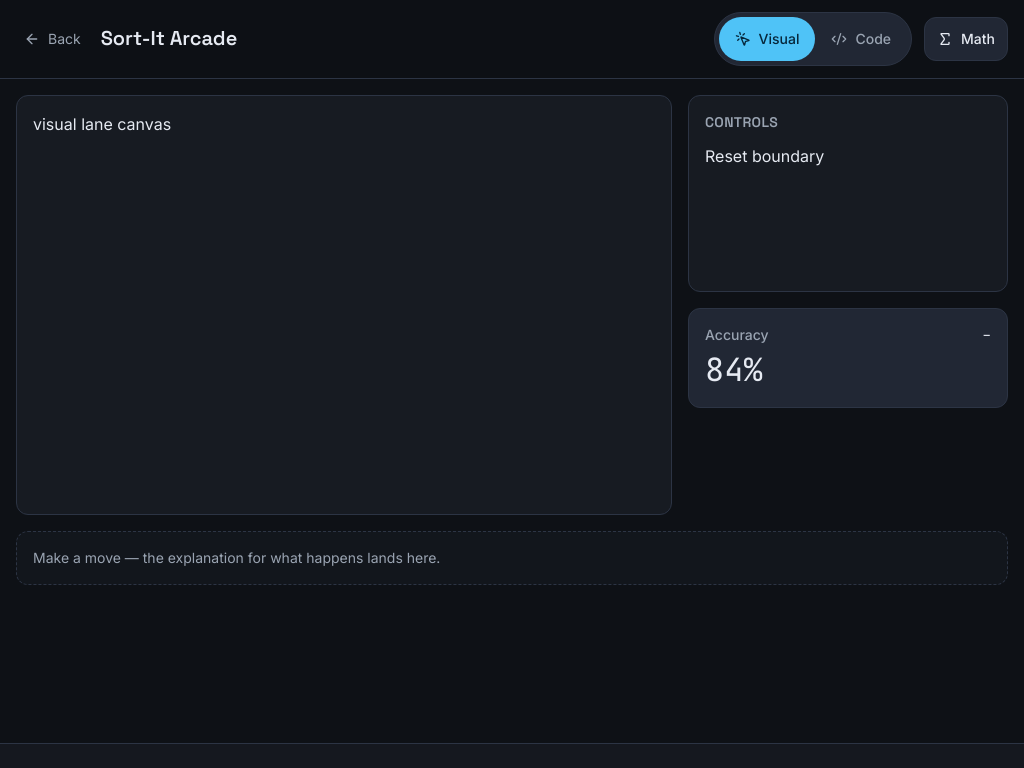
Test: <GameShell> lane switching › swaps lanes on click and only mounts the active one
Click the radio button labelled "Code" at (861, 39), box [816,17,907,61]
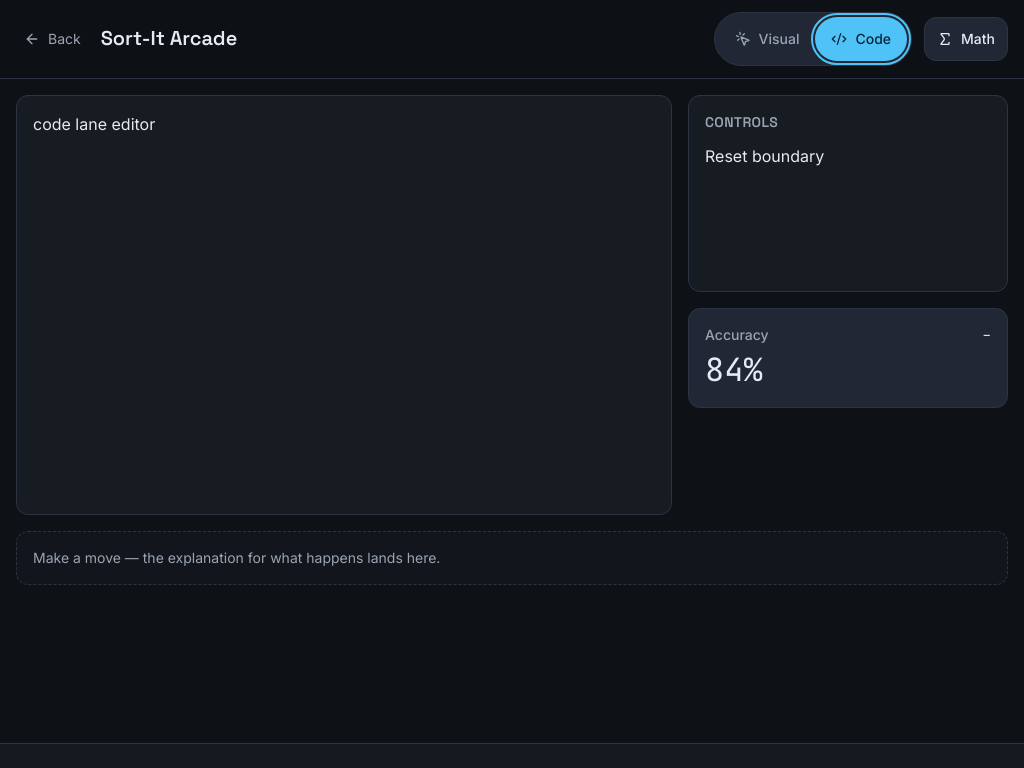
Expected: the text "code lane editor" is shown, [33,114,155,134]
Expected: the text "visual lane canvas" is gone
